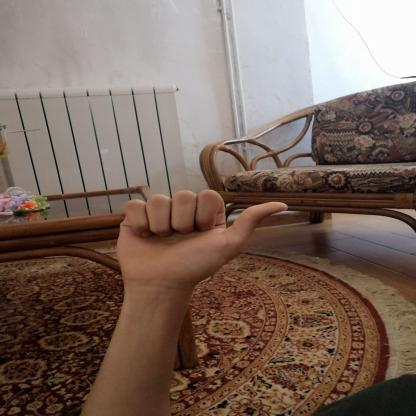DAD: (104, 181, 298, 298)
